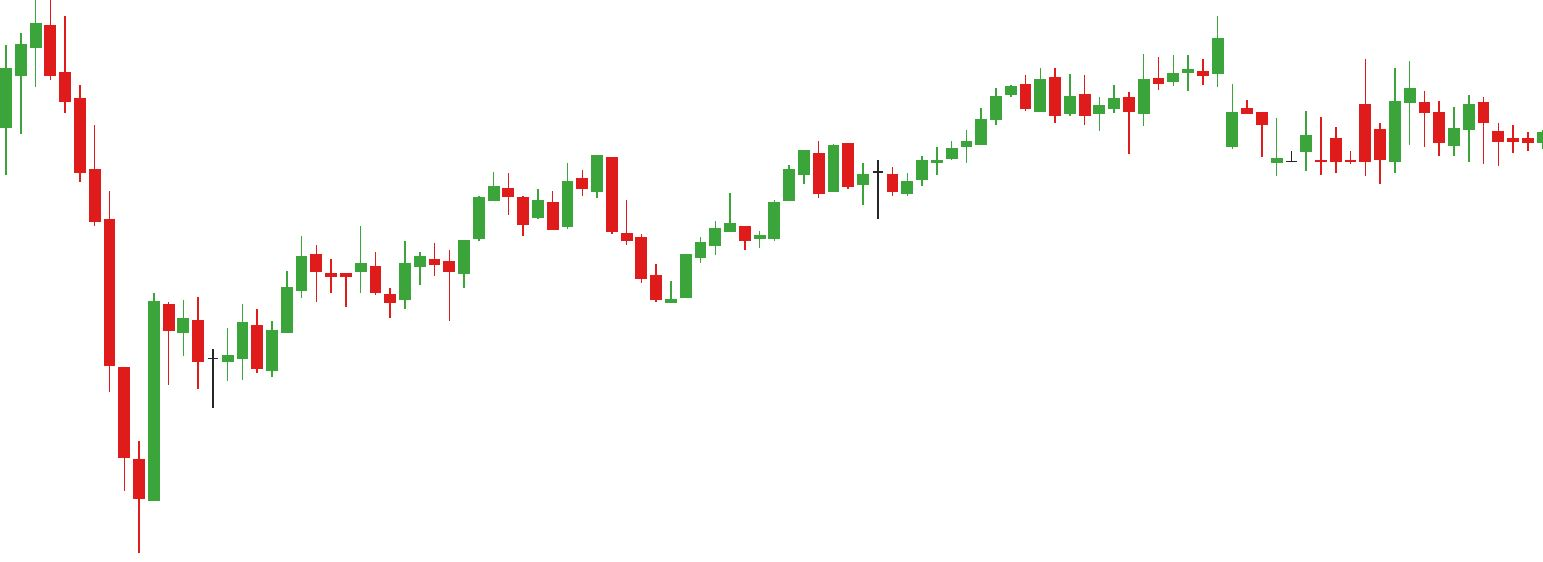buy: (382, 258, 456, 324)
sell: (485, 153, 620, 223)
